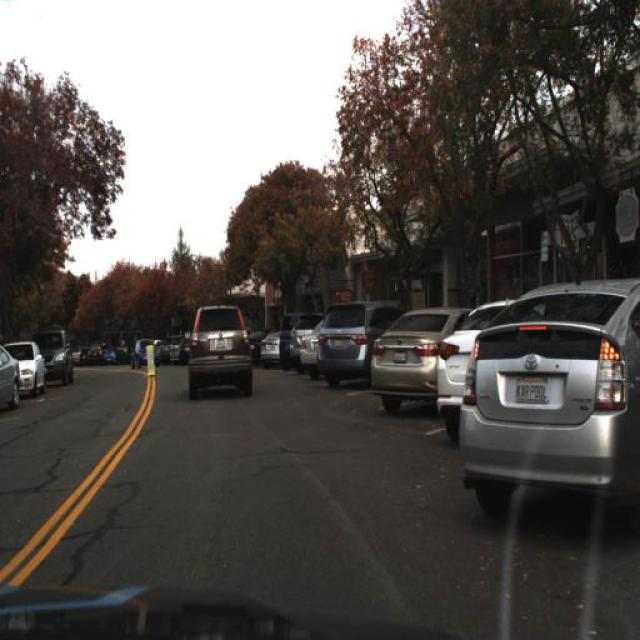car: (461, 278, 640, 520), (434, 295, 520, 439), (370, 303, 456, 413), (314, 296, 394, 389), (181, 298, 251, 397), (318, 303, 400, 382), (35, 326, 70, 383), (298, 309, 324, 377), (4, 342, 44, 386), (0, 343, 21, 412), (299, 321, 322, 374), (288, 313, 312, 362), (289, 312, 312, 360), (277, 311, 294, 368), (130, 338, 160, 367), (261, 328, 281, 367), (249, 326, 266, 369)
